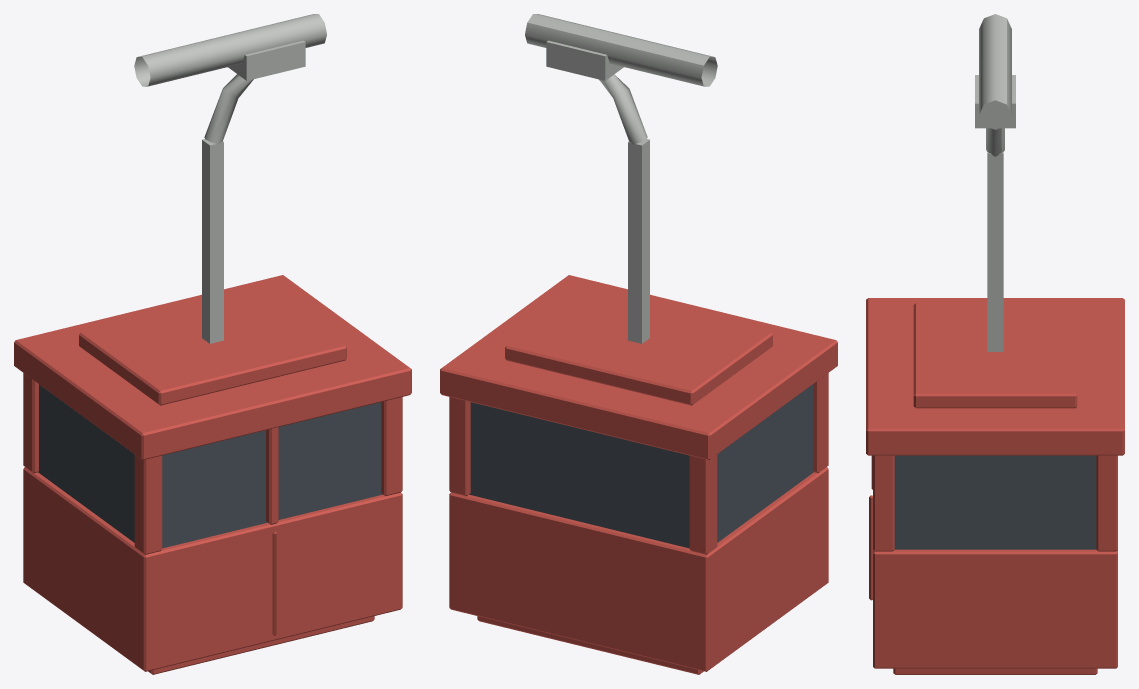
File: cablecar-gondola.glb
3 renders of one model, left to right at view 1: azimuth 30°, elevation 25°; view 2: azimuth 150°, elevation 25°; view 3: azimuth 270°, elevation 25°, orthographic.
Parts seen in each view (by area): view 1: cablecar-gondola; view 2: cablecar-gondola; view 3: cablecar-gondola.
Boxes of the visible parts, x1=… form: cablecar-gondola: x1=14, y1=14, x2=411, y2=674; cablecar-gondola: x1=440, y1=14, x2=837, y2=674; cablecar-gondola: x1=866, y1=14, x2=1124, y2=674.
Size of the model in its own units: 2.3 by 4.64 by 1.9.
